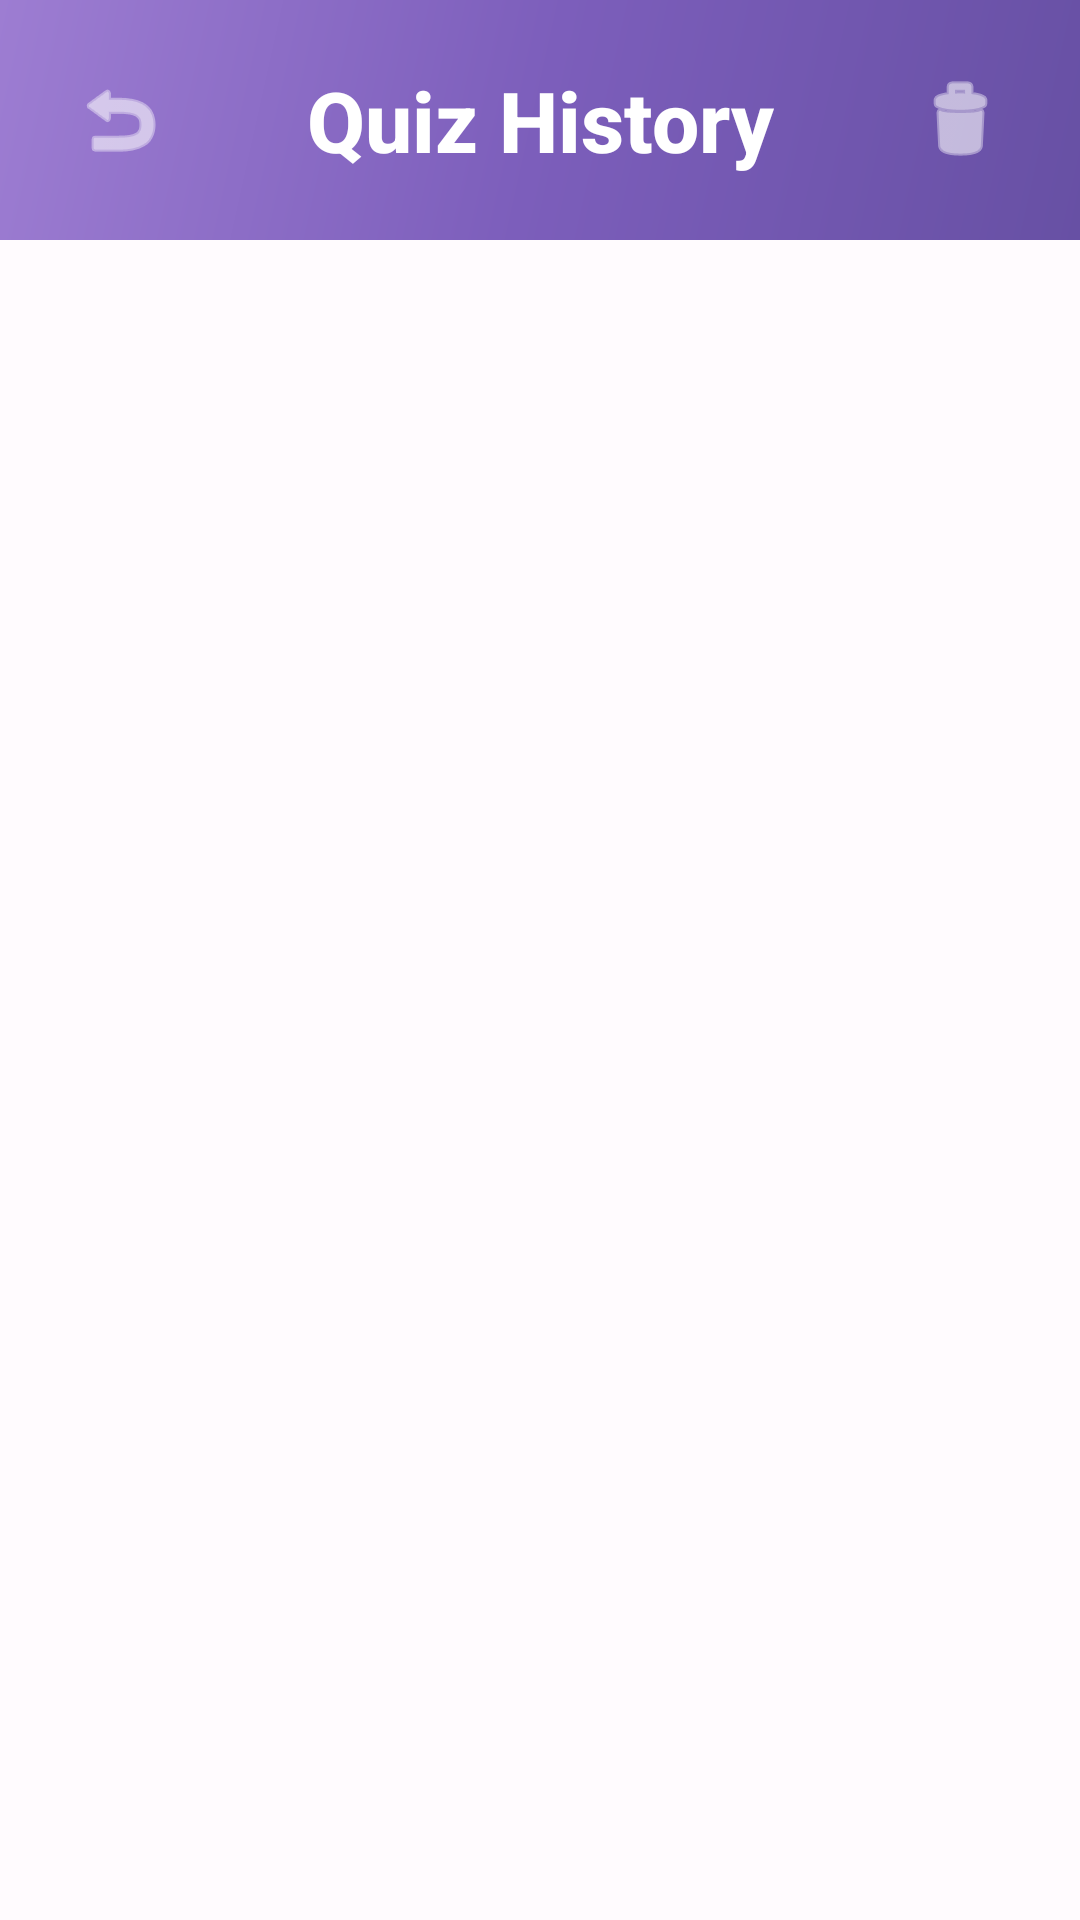

Point at icon controls on the screen. Image size 1080×1920, points as [x,y].
Back: [121,121]
Delete All History: [960,118]
